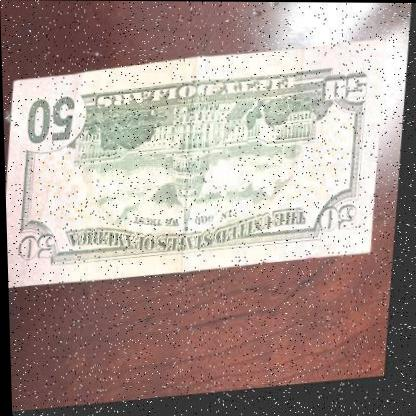fifty-back: (1, 46, 393, 292)
